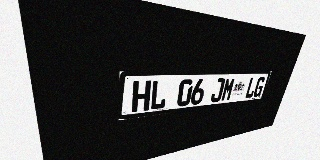0: (176, 79, 194, 107)
6: (190, 79, 207, 105)
G: (252, 77, 266, 97)
H: (132, 80, 151, 112)
J: (210, 78, 226, 103)
L: (149, 80, 168, 110), (244, 77, 258, 98)
M: (220, 78, 236, 101)
